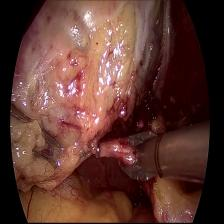Clipper: (112, 117, 169, 192)
Grasper: (16, 96, 71, 187)
